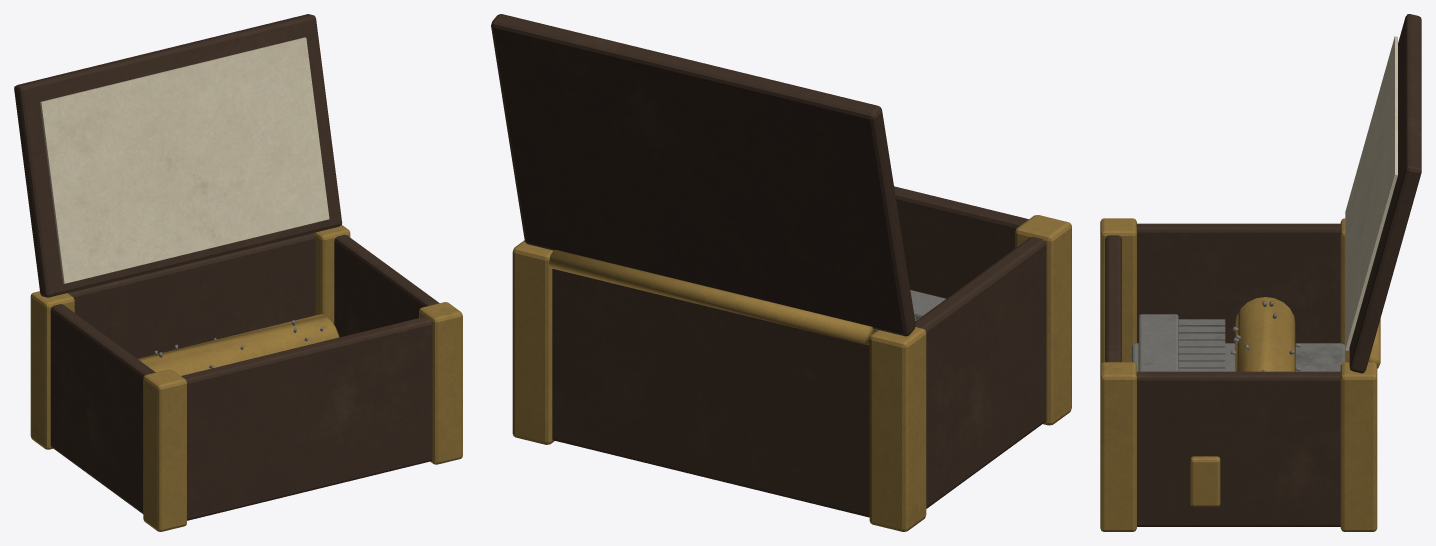
Rendered from prop_music_box_01.gltf.
3 renders of one model, left to right at view 1: azimuth 30°, elevation 25°; view 2: azimuth 150°, elevation 25°; view 3: azimuth 270°, elevation 25°, orthographic. The views are drawn at different scales.
Visible parts, largest first — view 1: prop_music_box_01_item_atlas_01; view 2: prop_music_box_01_item_atlas_01; view 3: prop_music_box_01_item_atlas_01.
Boxes of the visible parts, x1=… form: prop_music_box_01_item_atlas_01: x1=14, y1=14, x2=462, y2=531; prop_music_box_01_item_atlas_01: x1=491, y1=14, x2=1071, y2=531; prop_music_box_01_item_atlas_01: x1=1100, y1=14, x2=1421, y2=531.
Bounding box in the file's own units: 0.127 × 0.1202 × 0.0963.
1 material, 1 textured.
